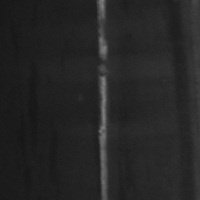scratches: (93, 1, 112, 200)
